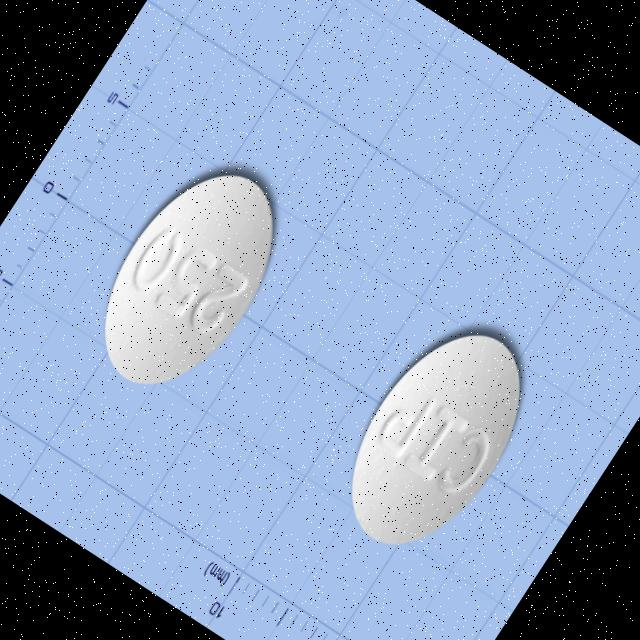Ciprocin: (59, 132, 316, 422), (308, 297, 559, 579)
